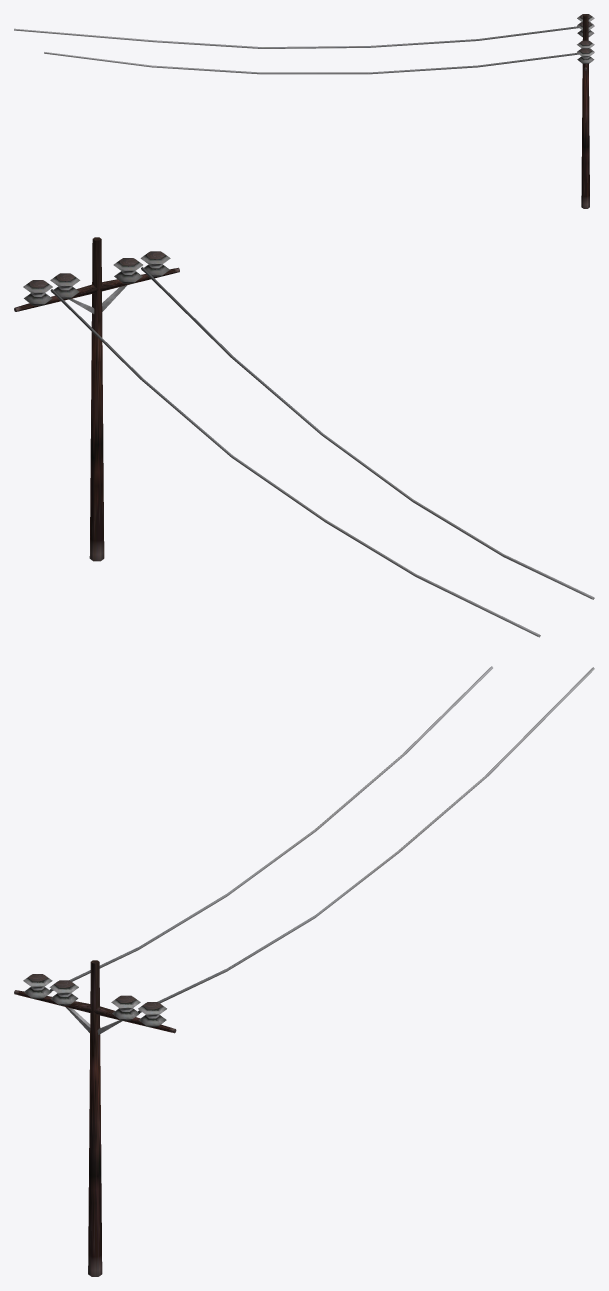
The model's file is Pylon30Left.glb.
3 views of the same model, one above another, from view 1: azimuth 30°, elevation 25°; view 2: azimuth 150°, elevation 25°; view 3: azimuth 270°, elevation 25° (orthographic). The views are drawn at different scales.
Parts seen in each view (by area): view 1: PYLON30LEFT; view 2: PYLON30LEFT; view 3: PYLON30LEFT.
Boxes of the visible parts, x1=… form: PYLON30LEFT: x1=14, y1=14, x2=594, y2=208; PYLON30LEFT: x1=14, y1=237, x2=594, y2=637; PYLON30LEFT: x1=14, y1=666, x2=594, y2=1276.
Size of the model in its own units: 18.92 by 7.78 by 13.11.
Materials: 1 (1 with a texture image).
